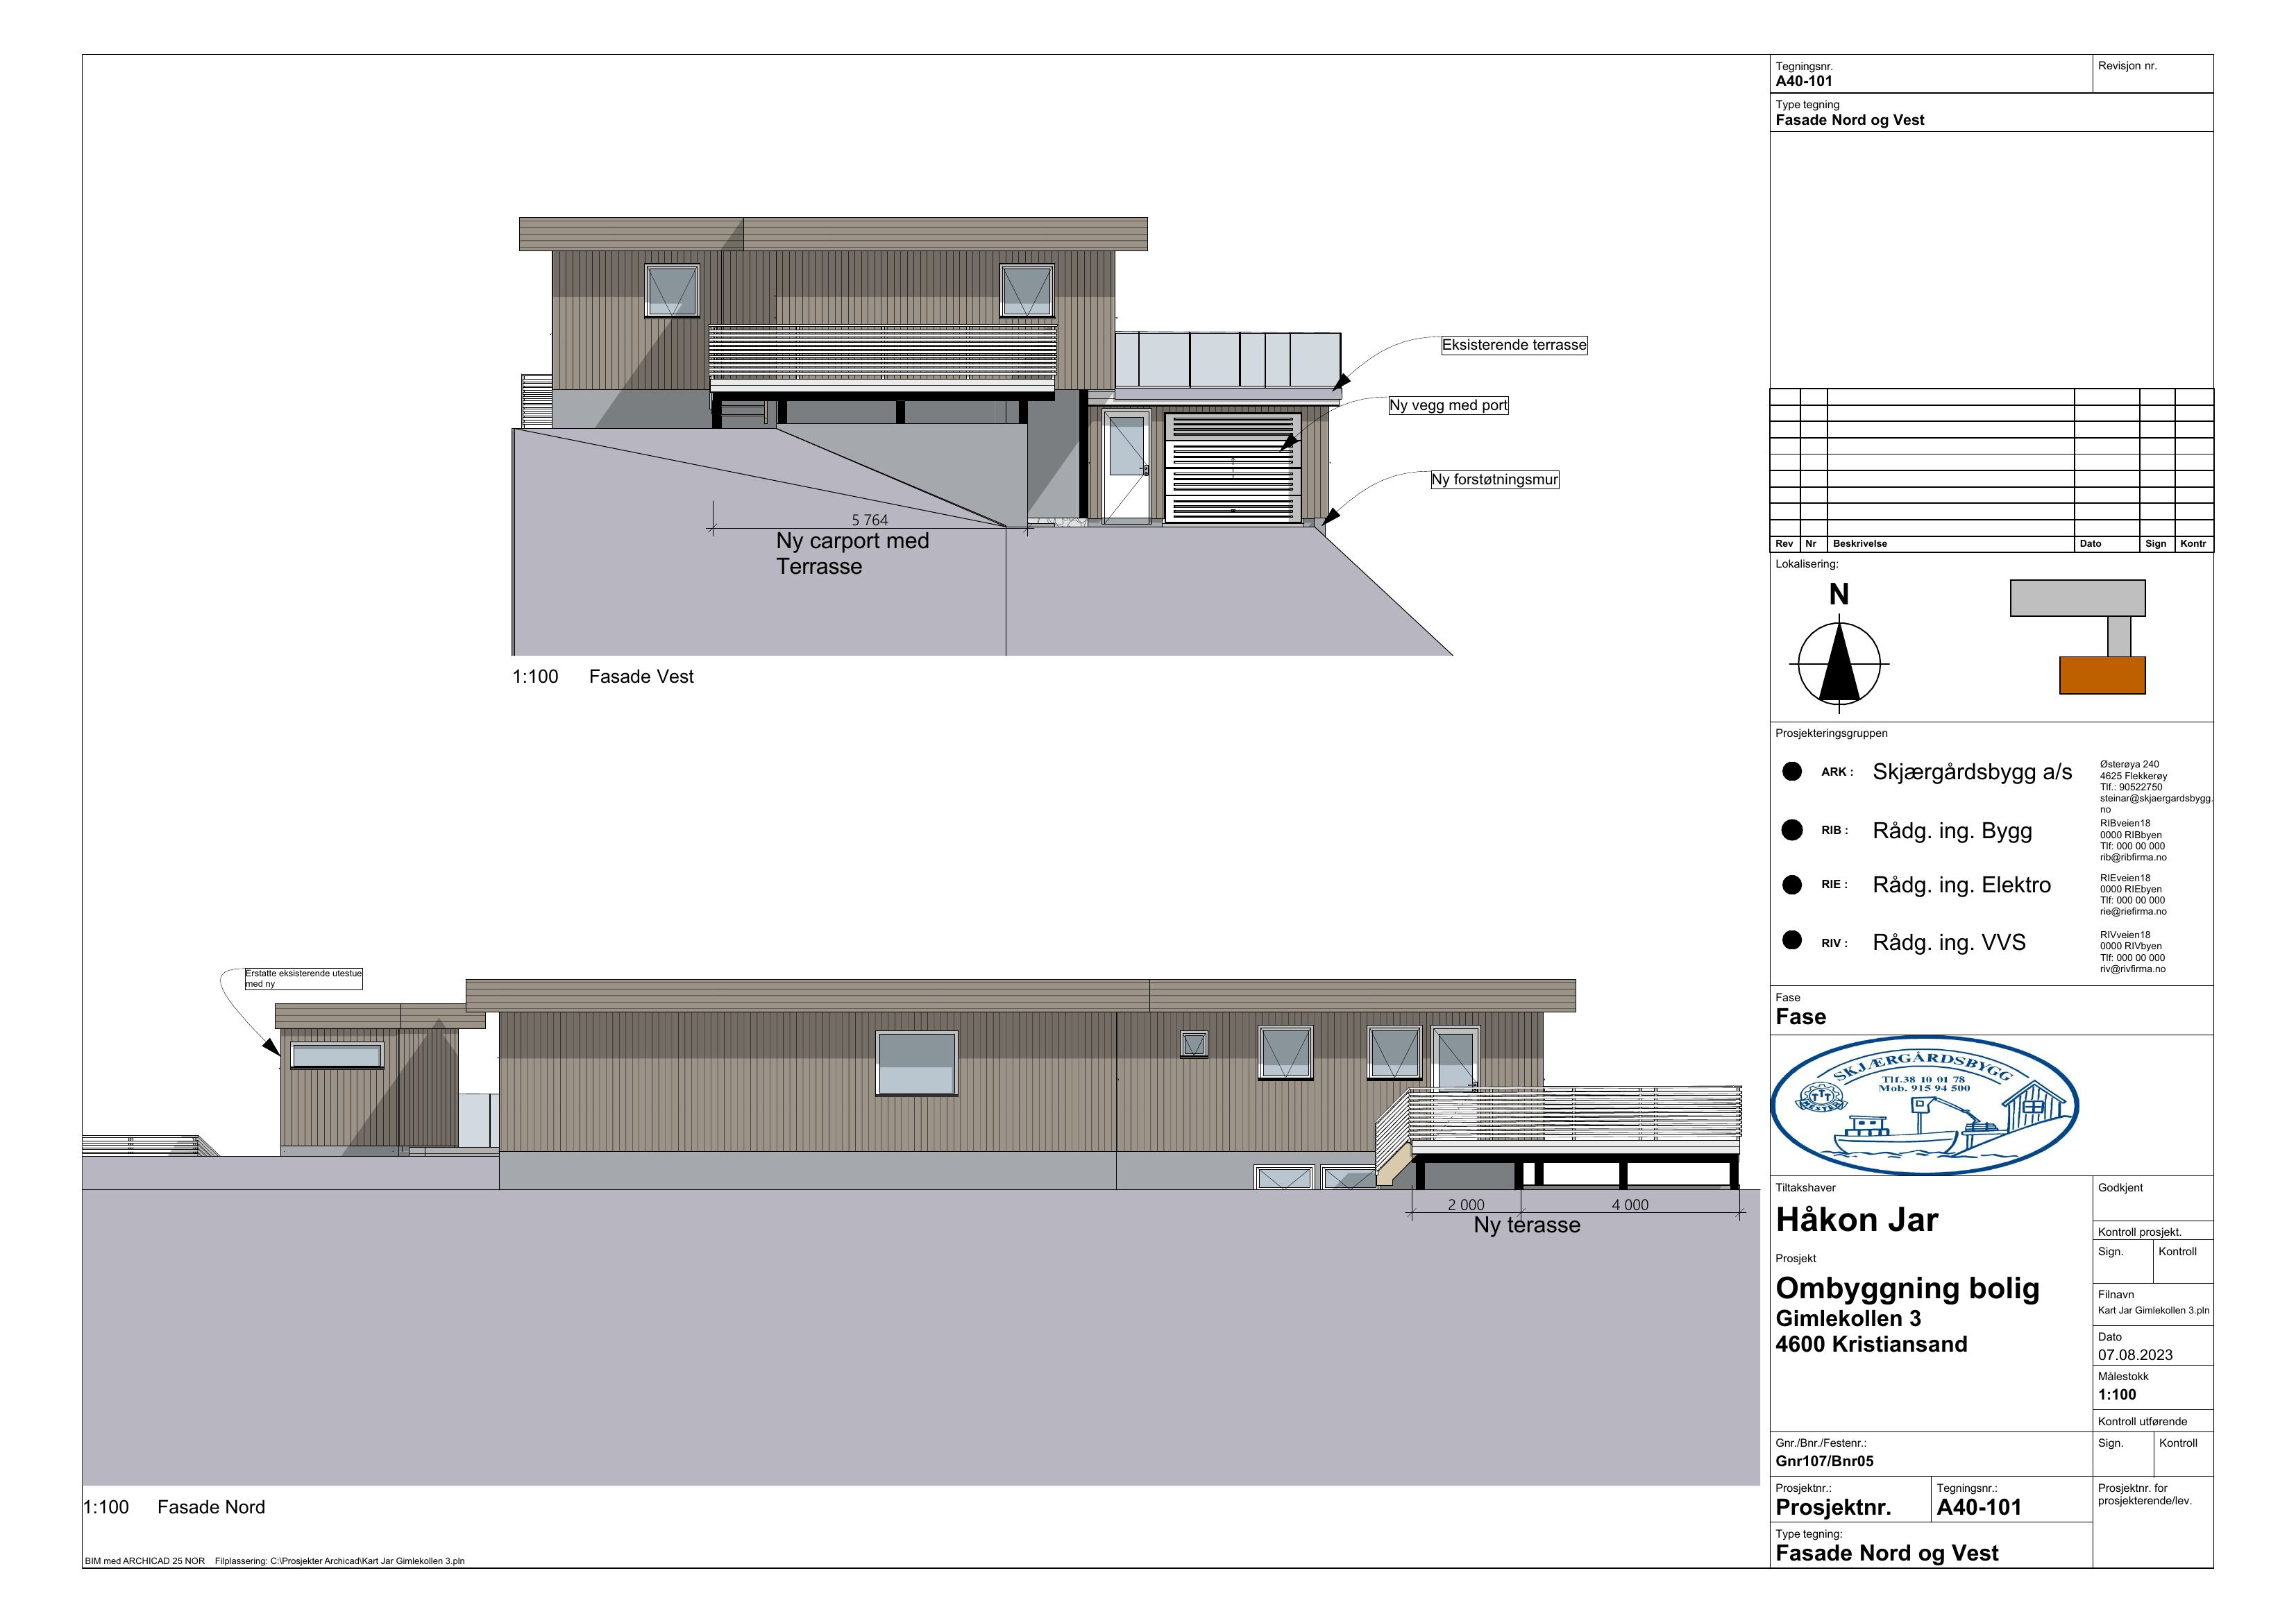fasade: (227, 966, 1737, 1207), (509, 211, 1344, 645)
